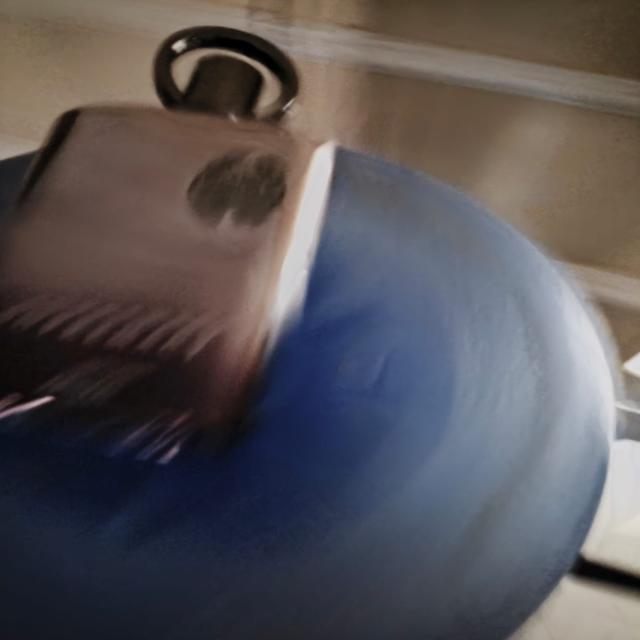Afnan: (1, 24, 622, 638)
